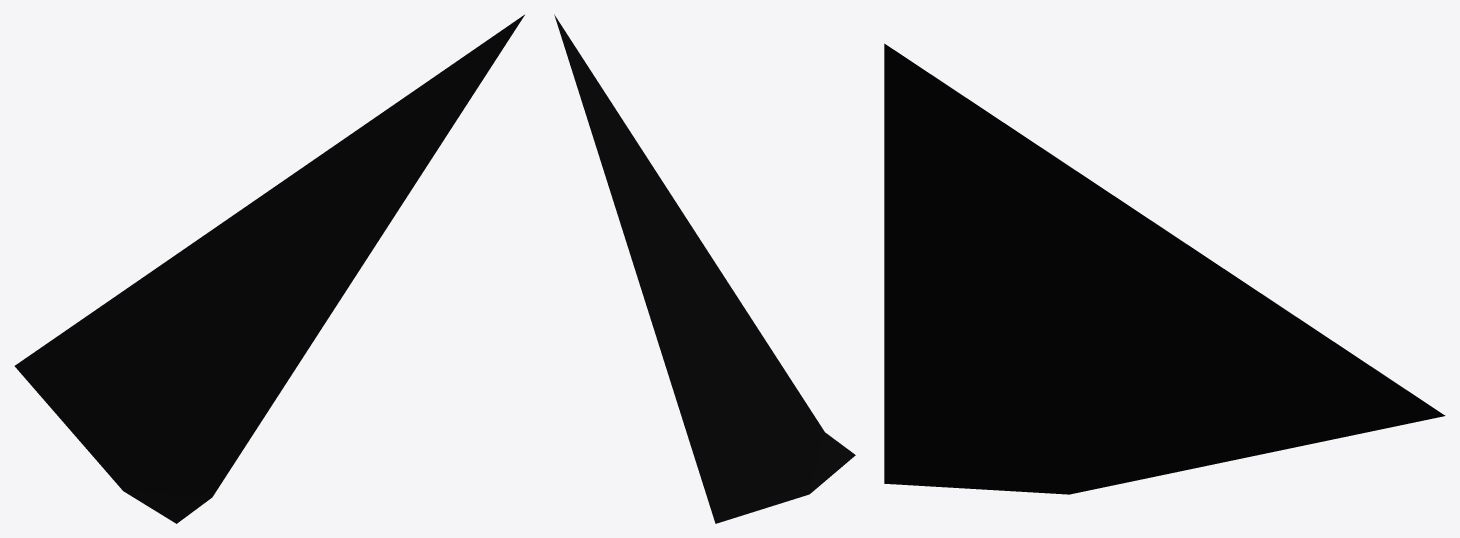
3 renders of one model, left to right at view 1: azimuth 30°, elevation 25°; view 2: azimuth 150°, elevation 25°; view 3: azimuth 270°, elevation 25°, orthographic. The views are drawn at different scales.
Bounding box in the file's own units: 1.34 × 1.58 × 1.08.
1 material, 1 textured.
